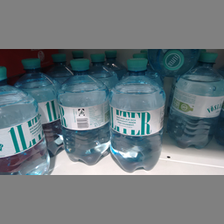water: (112, 57, 166, 173), (56, 58, 112, 166), (168, 51, 224, 151), (1, 66, 51, 175), (16, 58, 62, 153)
